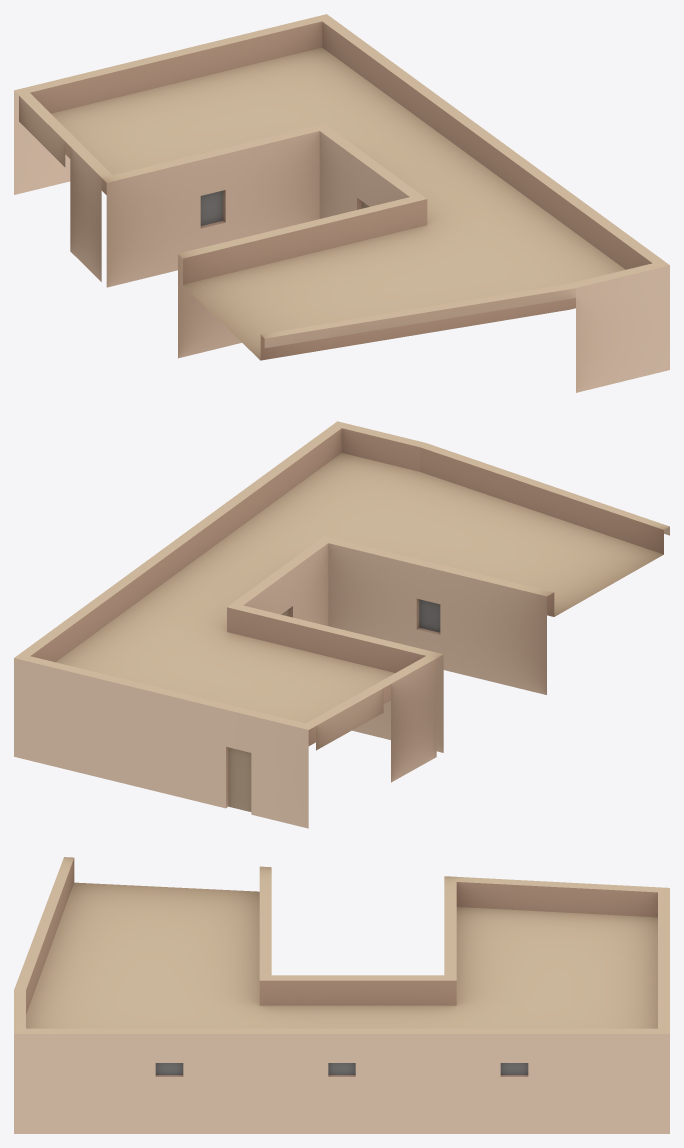
The picture shows the model from 3 angles, top to bottom: view 1: azimuth 30°, elevation 25°; view 2: azimuth 150°, elevation 25°; view 3: azimuth 270°, elevation 25°; orthographic projection. The views are drawn at different scales.
Visible parts, largest first — view 1: atturaifworldheritagesite70030076209992979; view 2: atturaifworldheritagesite70030076209992979; view 3: atturaifworldheritagesite70030076209992979.
Part boxes in pixels (box(x1,y1,x2,y2)): atturaifworldheritagesite70030076209992979: box(14, 14, 669, 392); atturaifworldheritagesite70030076209992979: box(14, 421, 669, 828); atturaifworldheritagesite70030076209992979: box(14, 857, 669, 1133).
Bounding box in the file's own units: 12.12 × 3.2 × 19.
1 material, 1 textured.
